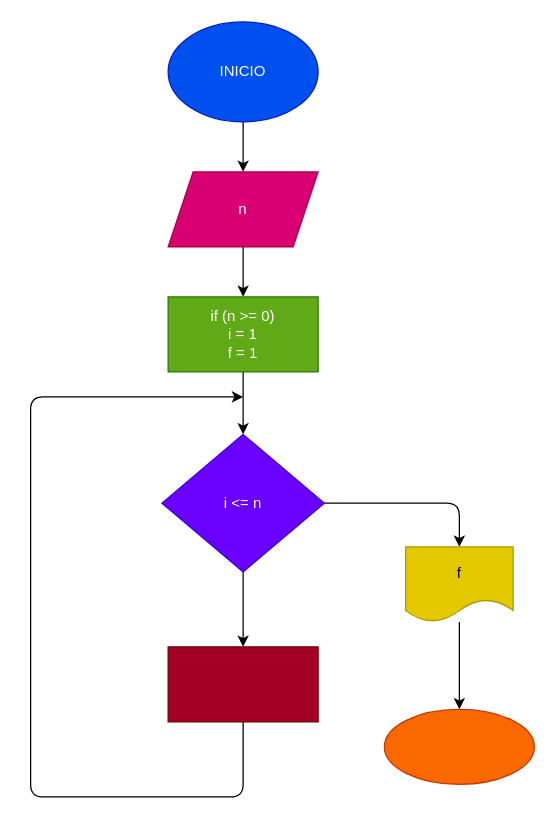
The diagram is 556 pixels wide and 829 high, and some of its shapes have lost their labels. Each missing label, with the centre of its shape:
f = f * 1 i = i + 1: [242,684]
FIN: [458,746]
